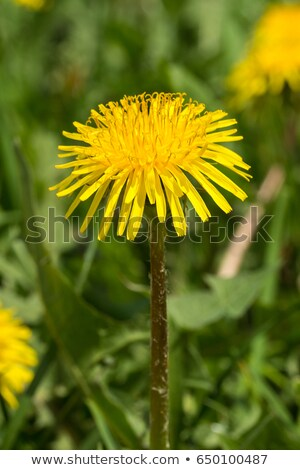dandelion: (53, 103, 235, 216)
